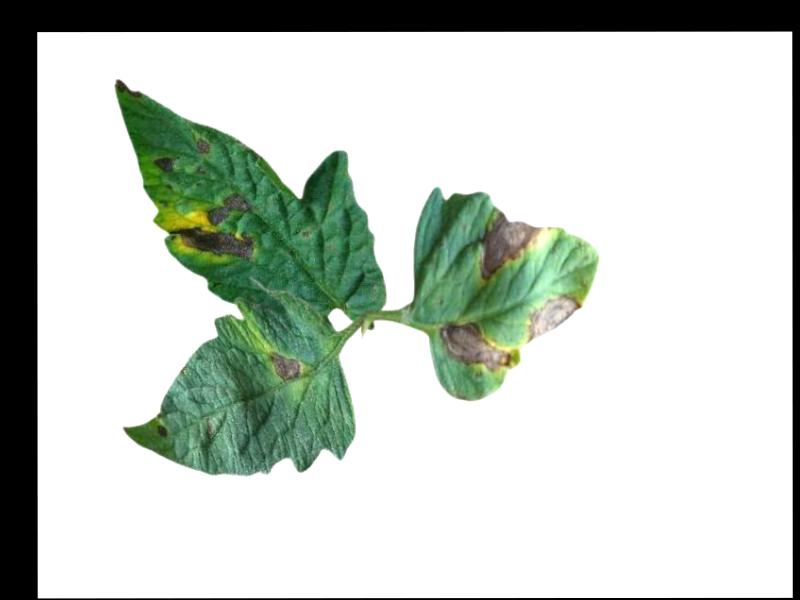Early_blight: (167, 192, 260, 259), (480, 210, 542, 280), (440, 316, 512, 371), (528, 292, 585, 346), (269, 351, 304, 381), (154, 154, 174, 173), (196, 136, 211, 153), (156, 421, 169, 439)
